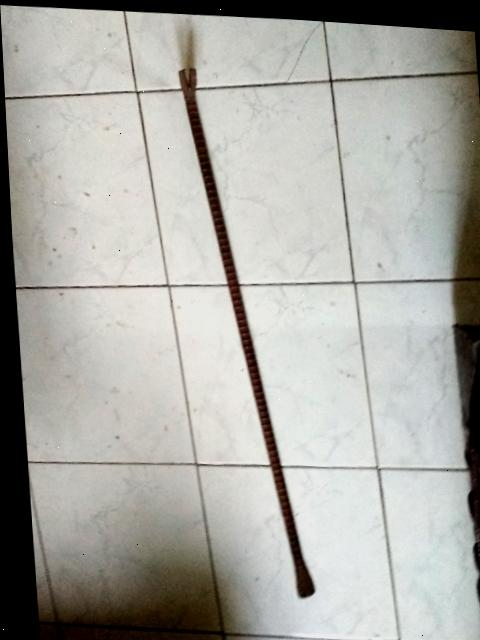crow bar: (166, 50, 313, 614)
